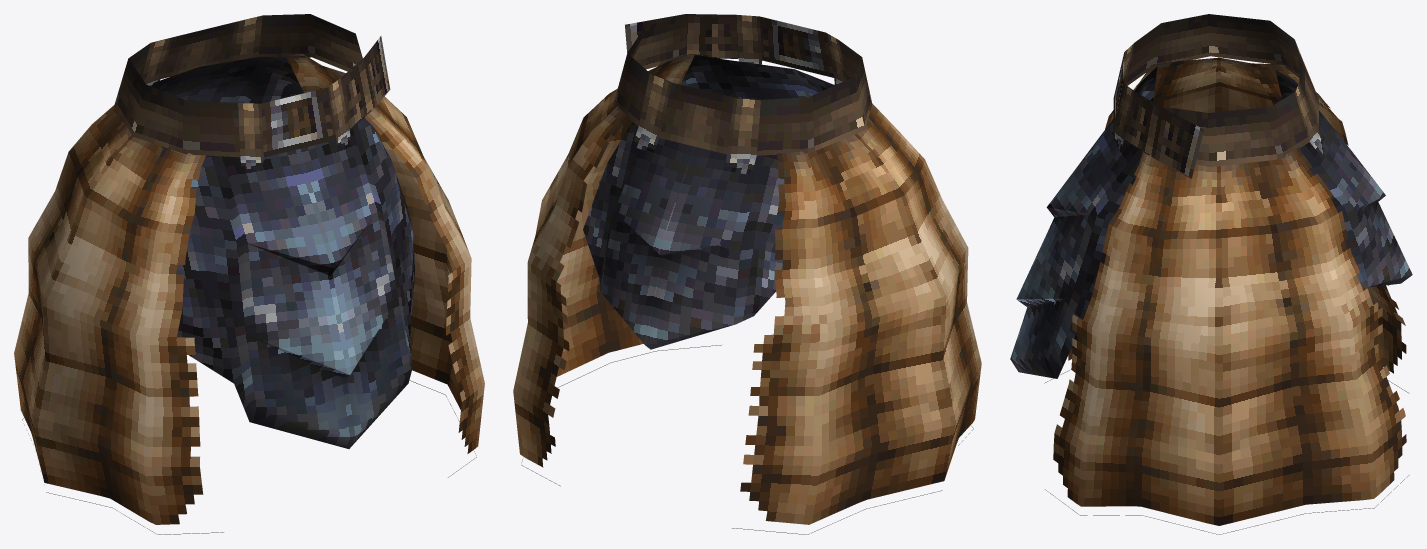
File: f_wst223.glb
3 renders of one model, left to right at view 1: azimuth 30°, elevation 25°; view 2: azimuth 150°, elevation 25°; view 3: azimuth 270°, elevation 25°, orthographic. The views are drawn at different scales.
Size of the model in its own units: 64.59 by 56.46 by 54.66.
Materials: 1 (1 with a texture image).
